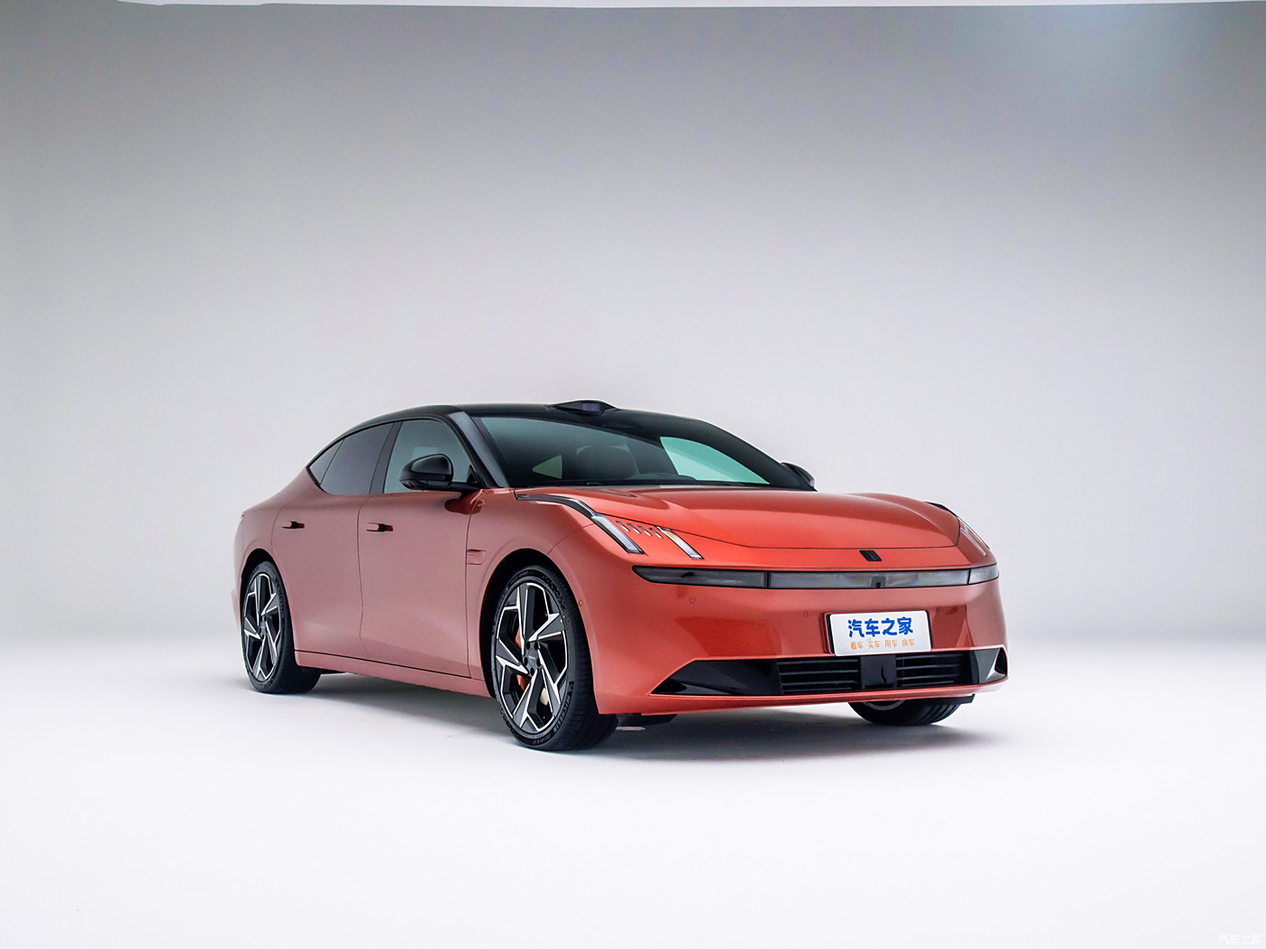LINK&CO: (859, 550, 883, 561)
